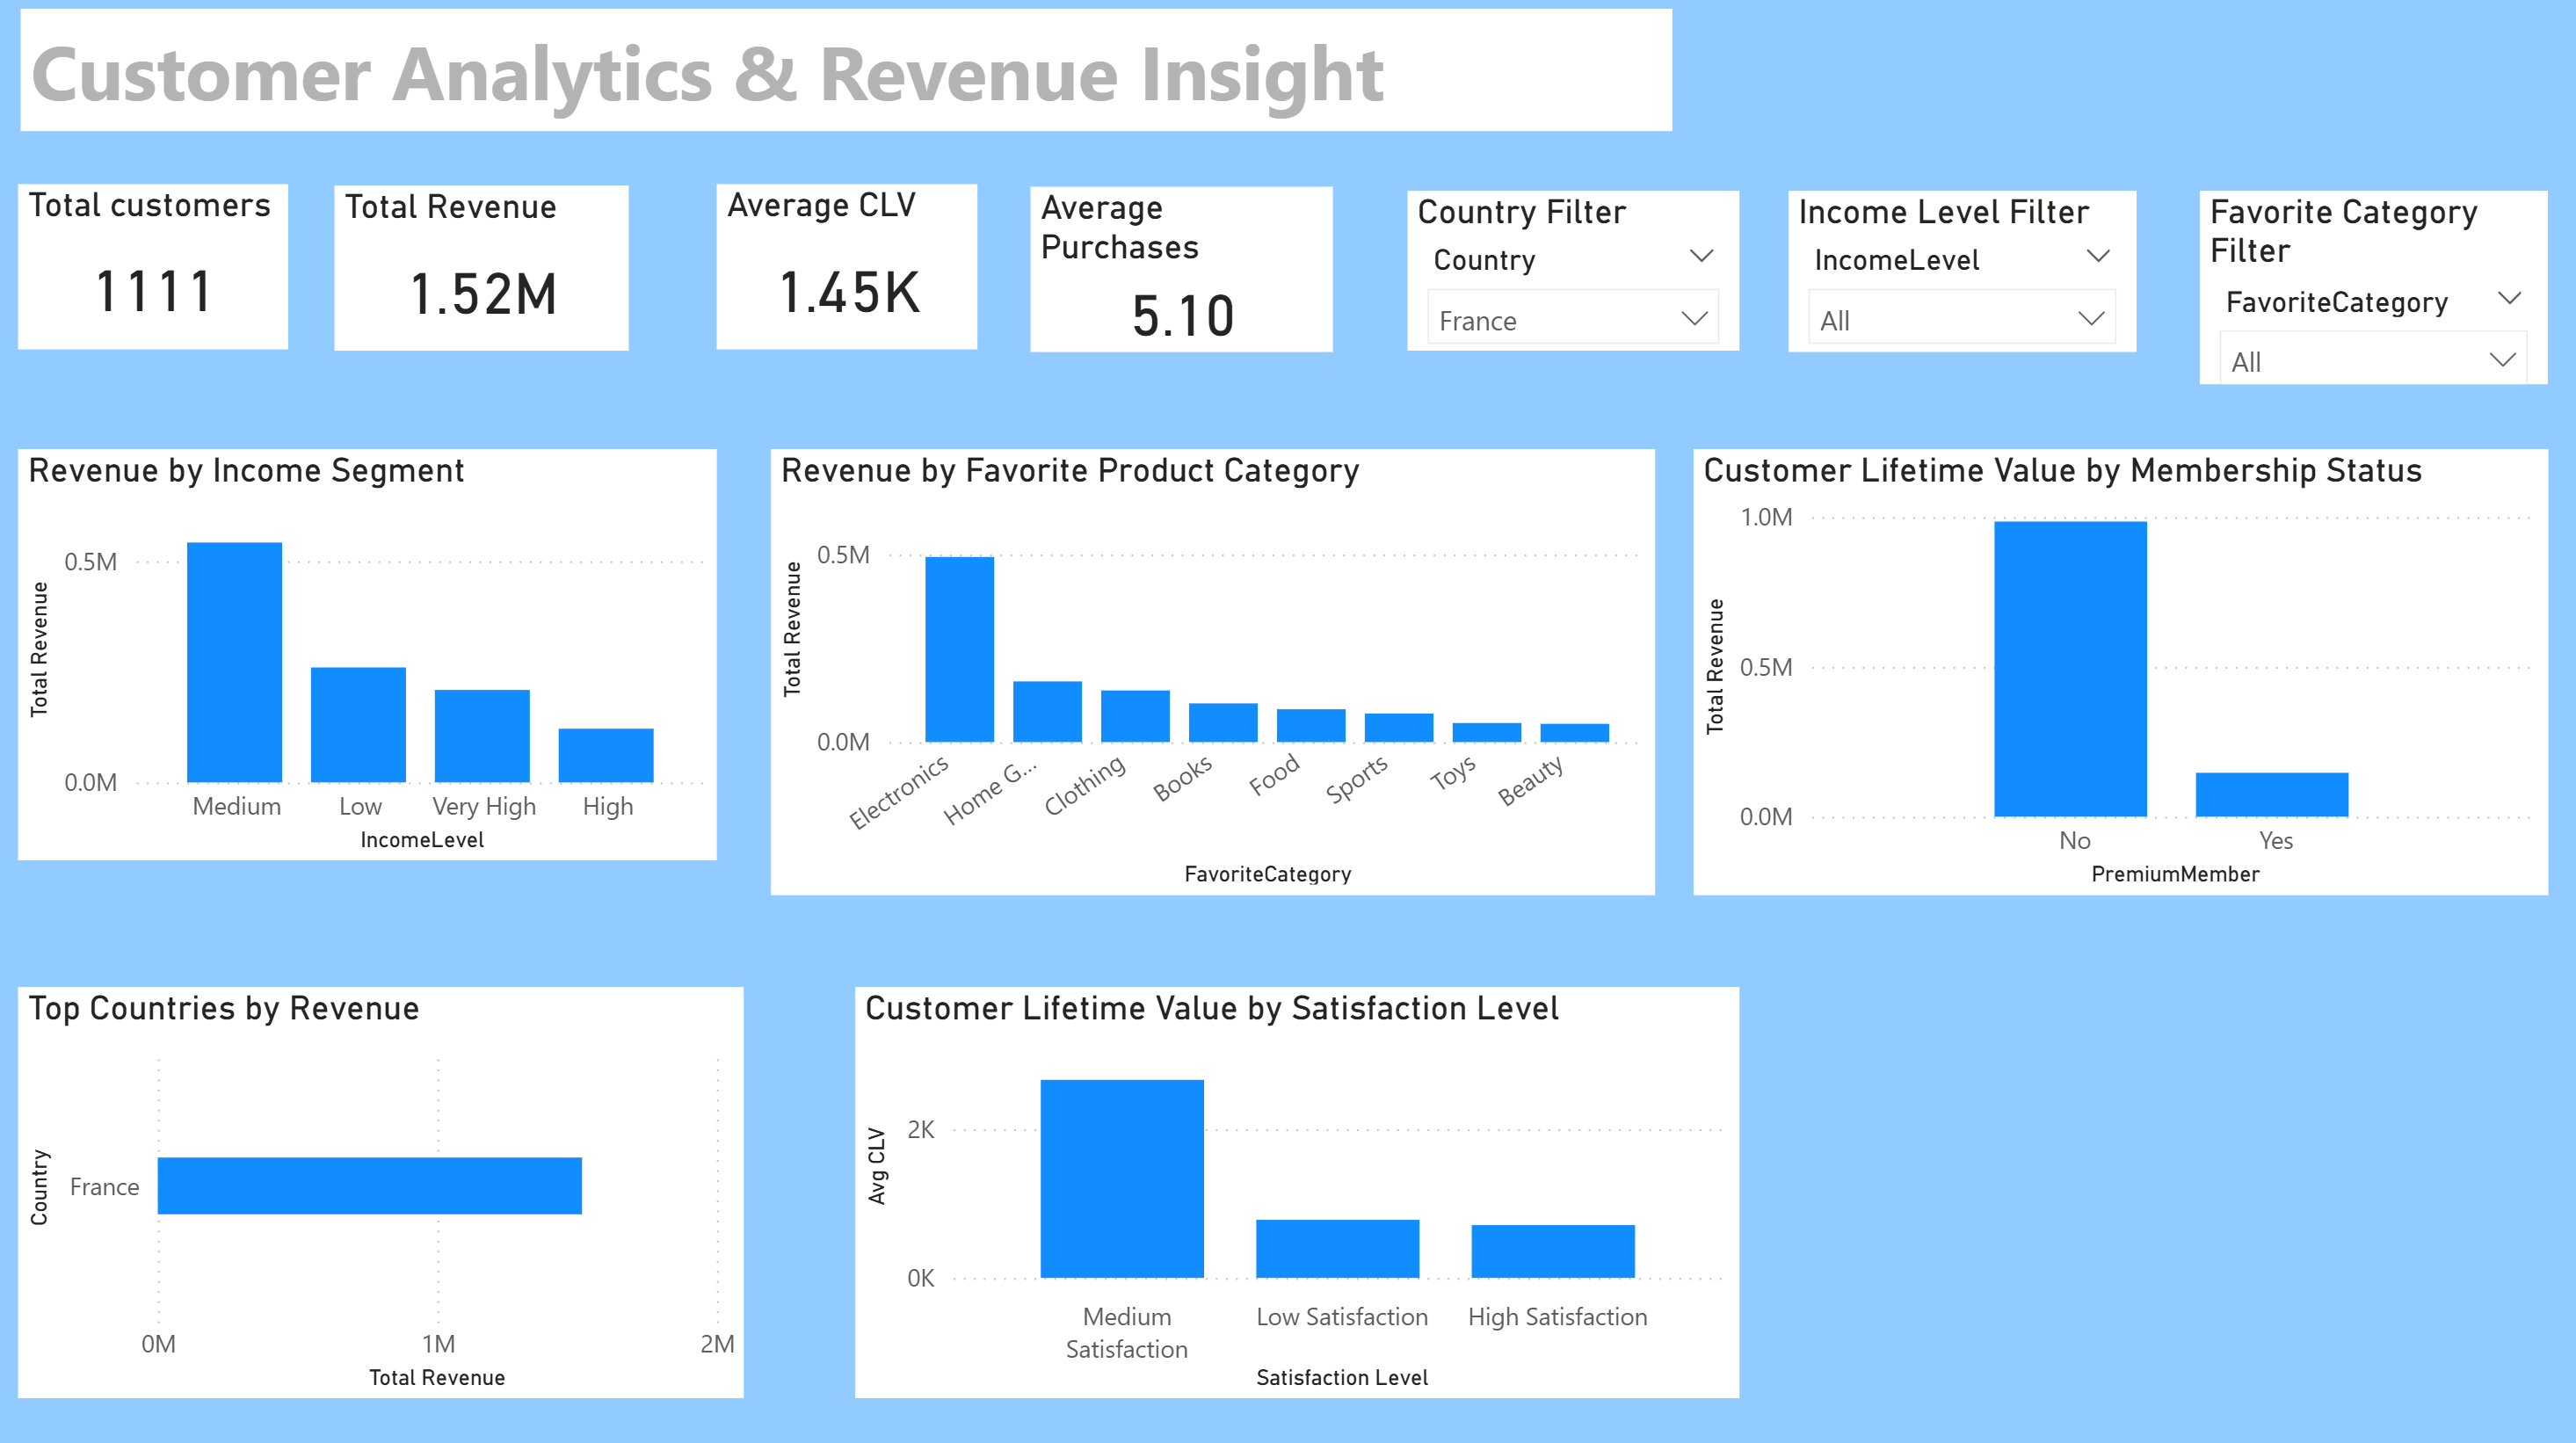

Layout of this report page (visuals, bound fields, positions):
{"tool":"powerbi","page":{"name":"Page 1","canvas":[1280,720],"ordinal":0},"visuals":[{"type":"card","title":"Total customers","fields":{"Values":["Customer metrics.Total Customers"]},"box":[9.8,94.8,134.1,81.7],"z":0},{"type":"card","title":"Total Revenue","fields":{"Values":["Customer metrics.Total Revenue"]},"box":[166.8,95.5,145.8,81.7],"z":1000},{"type":"card","title":"Average CLV","fields":{"Values":["Customer metrics.Avg CLV"]},"box":[356.4,94.8,129.5,81.7],"z":2000},{"type":"card","title":"Average Purchases","fields":{"Values":["Customer metrics.Avg Purchases"]},"box":[512,96.1,149.8,81.7],"z":3000},{"type":"clusteredColumnChart","title":"Revenue by Income Segment","fields":{"Category":["Customer.IncomeLevel"],"Y":["Customer metrics.Total Revenue"]},"box":[9.8,226.3,346.6,204],"z":4000},{"type":"clusteredColumnChart","title":"Revenue by Favorite Product Category","fields":{"Category":["Customer Preferences.FavoriteCategory"],"Y":["Customer metrics.Total Revenue"]},"box":[383.2,226.3,438.8,221],"z":5000},{"type":"clusteredColumnChart","title":"Customer Lifetime Value by Membership Status","fields":{"Category":["Customer behavior.PremiumMember"],"Y":["Customer metrics.Total Revenue"]},"box":[841,226.3,423.8,221],"z":6000},{"type":"clusteredBarChart","title":"Top Countries by Revenue","fields":{"Category":["Customer.Country"],"Y":["Customer metrics.Total Revenue"]},"box":[9.8,493.1,360.3,204],"z":7000},{"type":"clusteredColumnChart","title":"Customer Lifetime Value by Satisfaction Level","fields":{"Category":["Customer metrics.Satisfaction Level"],"Y":["Customer metrics.Avg CLV"]},"box":[425.1,493.1,438.8,204],"z":8000},{"type":"slicer","title":"Country Filter","fields":{"Values":["Customer.Country"]},"box":[699.1,98.1,164.8,79.1],"z":8001},{"type":"slicer","title":"Income Level Filter","fields":{"Values":["Customer.IncomeLevel"]},"box":[888.1,98.1,172.6,79.8],"z":8002},{"type":"slicer","title":"Favorite Category Filter","fields":{"Values":["Customer Preferences.FavoriteCategory"]},"box":[1092.1,98.1,172.6,96.1],"z":8003},{"type":"textbox","box":[11.1,7.8,819.4,60.8],"z":8005}]}

Visuals, with their boxes in screenshot pixels (x1, y1, x2, y2), scaled from the page's 1280x720 canvas onto the 2576x1443 screenshot:
"Total customers" card: rect(19, 190, 290, 354)
"Total Revenue" card: rect(336, 192, 629, 355)
"Average CLV" card: rect(717, 190, 978, 354)
"Average Purchases" card: rect(1030, 192, 1332, 356)
"Revenue by Income Segment" clusteredColumnChart: rect(19, 453, 717, 862)
"Revenue by Favorite Product Category" clusteredColumnChart: rect(771, 453, 1654, 896)
"Customer Lifetime Value by Membership Status" clusteredColumnChart: rect(1693, 453, 2545, 896)
"Top Countries by Revenue" clusteredBarChart: rect(19, 989, 744, 1397)
"Customer Lifetime Value by Satisfaction Level" clusteredColumnChart: rect(855, 989, 1738, 1397)
"Country Filter" slicer: rect(1407, 197, 1738, 355)
"Income Level Filter" slicer: rect(1788, 197, 2135, 357)
"Favorite Category Filter" slicer: rect(2198, 197, 2545, 389)
textbox: rect(22, 16, 1672, 137)
